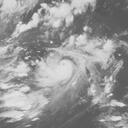cyclone: (32, 33, 115, 88)
